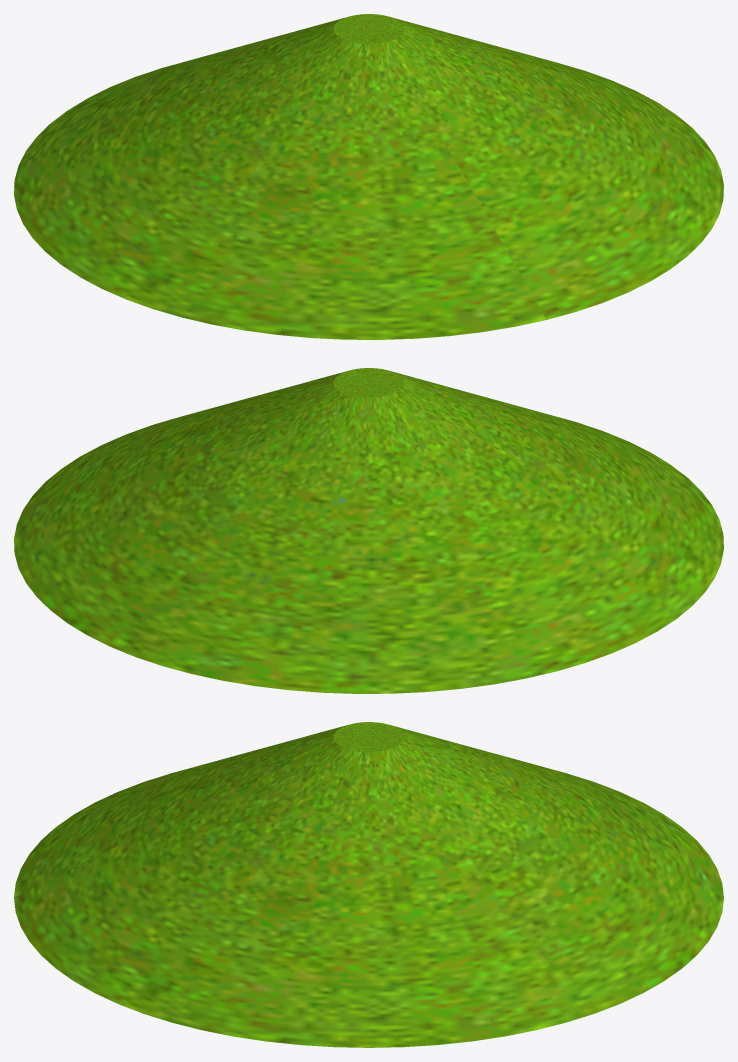
File: emerald_dust.glb
The picture shows the model from 3 angles, top to bottom: view 1: azimuth 30°, elevation 25°; view 2: azimuth 150°, elevation 25°; view 3: azimuth 270°, elevation 25°; orthographic projection.
Parts seen in each view (by area): view 1: MeshInstance3D; view 2: MeshInstance3D; view 3: MeshInstance3D.
Boxes of the visible parts, x1,y1,x2,y2 form: MeshInstance3D: (14,14,723,339); MeshInstance3D: (14,368,723,693); MeshInstance3D: (14,722,723,1047).
Bounding box in the file's own units: 0.2 × 0.05 × 0.2.
Materials: 1 (1 with a texture image).
